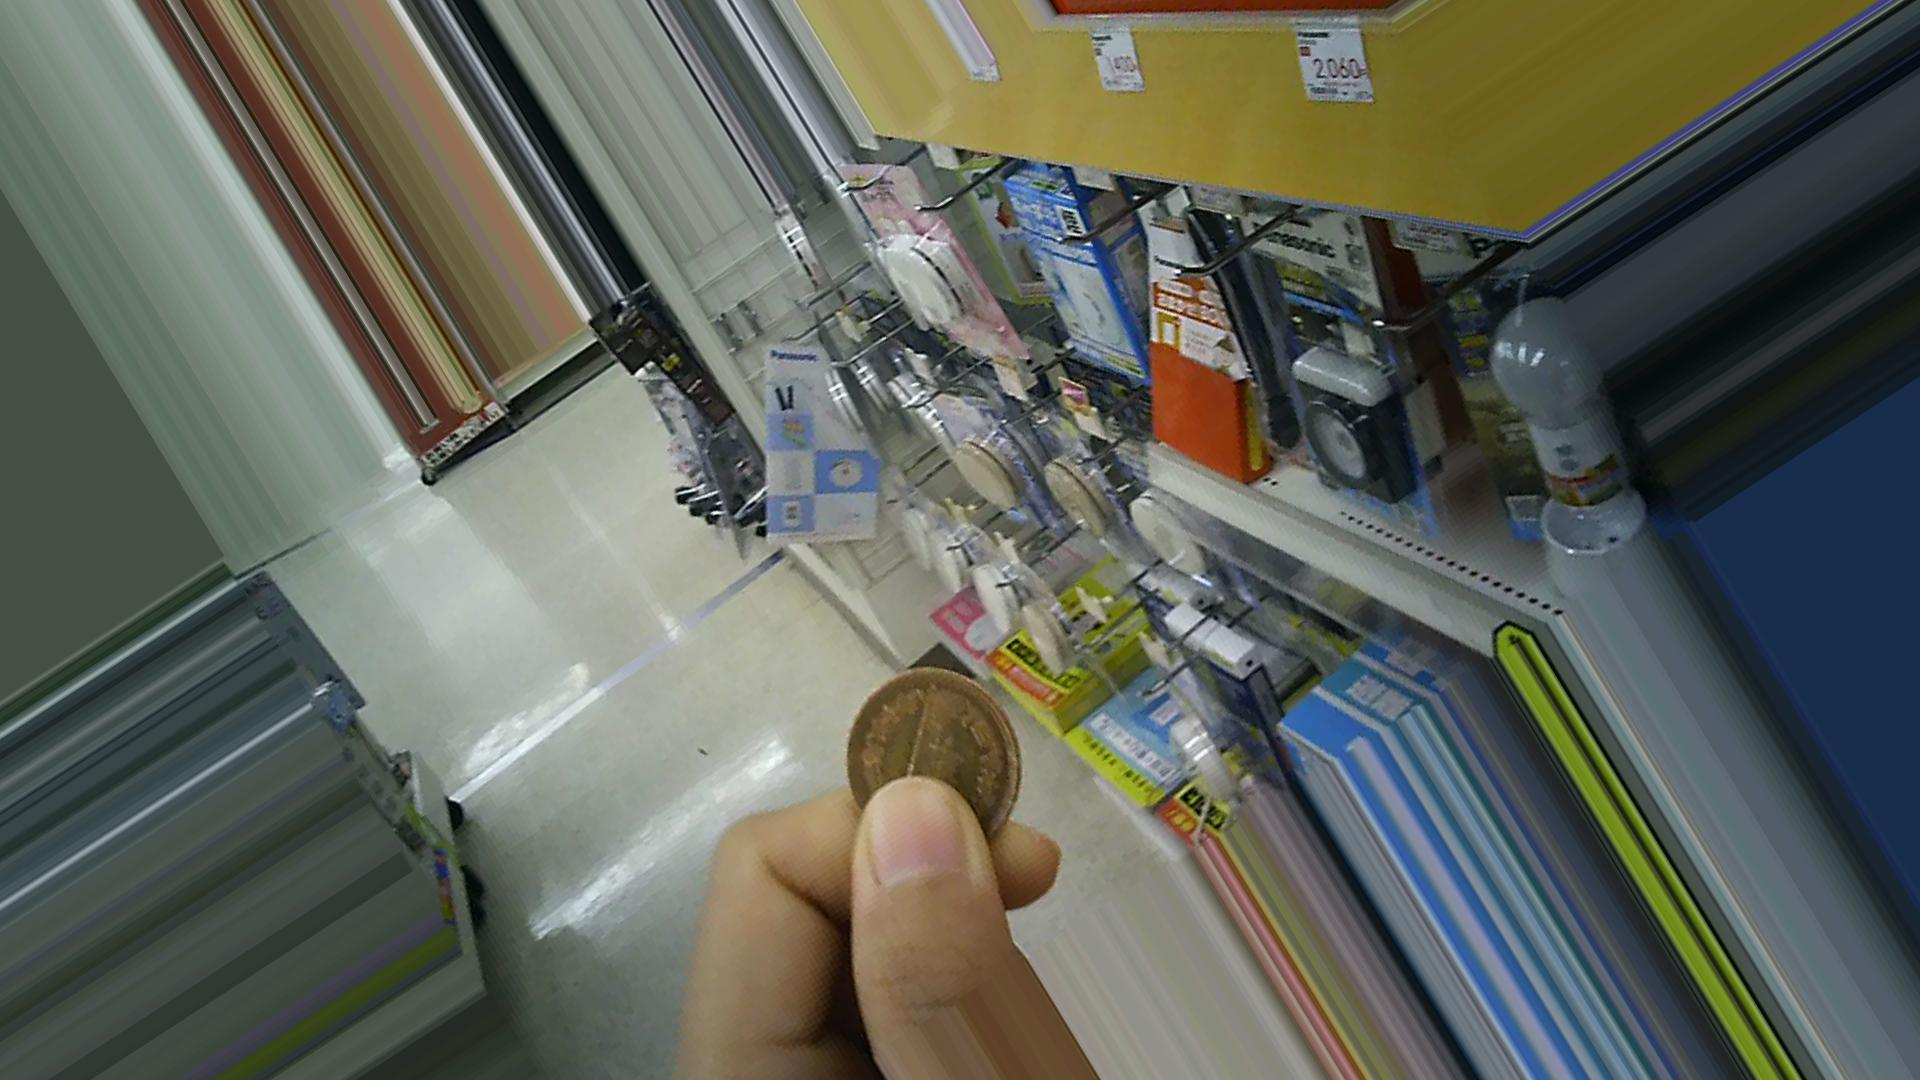10 Yen: (827, 665, 1025, 822)
